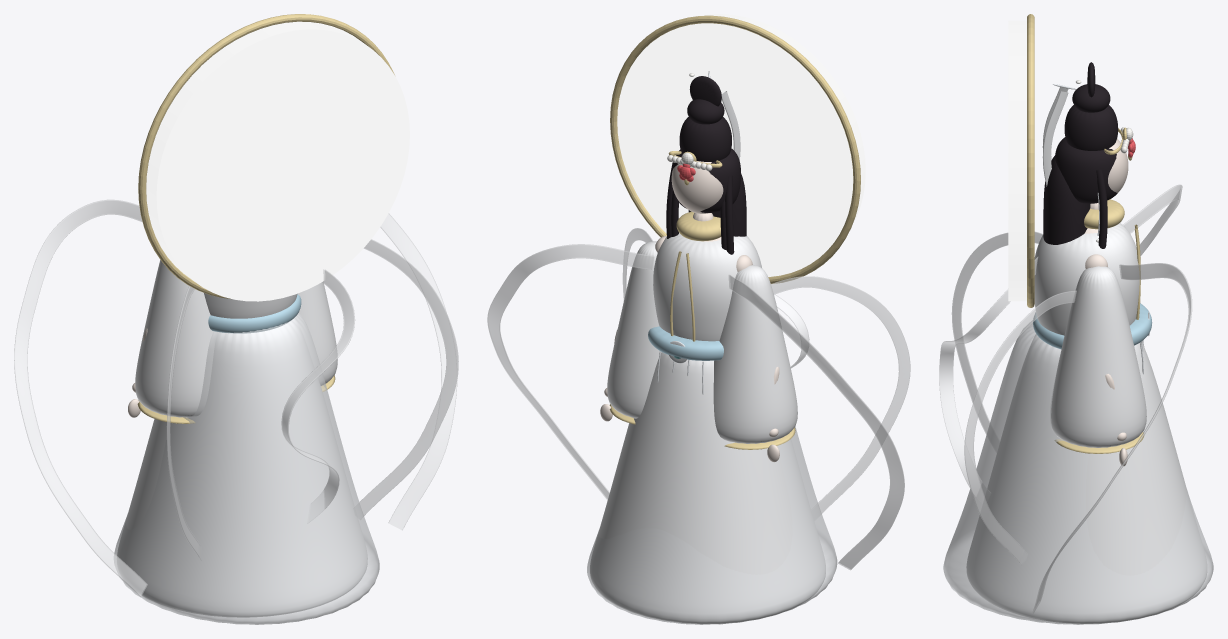
The model's file is xianxia-woman.glb.
3 views of the same model, side by side, from view 1: azimuth 30°, elevation 25°; view 2: azimuth 150°, elevation 25°; view 3: azimuth 270°, elevation 25° (orthographic). The views are drawn at different scales.
Parts seen in each view (by area): view 1: HaloDisc.001, SkirtSheer.001, SkirtOuter.001, Sleeve_L.001, PiboL1.001, PiboR1.001, PiboR2.001, HaloEdge.001, PiboBack.001, Sleeve_R.001, Bodice.001, PiboL2.001 (+1 smaller); view 2: SkirtOuter.001, HaloDisc.001, SkirtSheer.001, Sleeve_L.001, Bodice.001, Sleeve_R.001, HaloEdge.001, PiboL1.001, PiboR1.001, PiboL2.001, HairCrown.001, Head.001 (+8 smaller); view 3: SkirtOuter.001, SkirtSheer.001, Sleeve_R.001, Bodice.001, HaloDisc.001, PiboR2.001, PiboBack.001, HairMass.001, Scalp.001, PiboL2.001, HaloEdge.001, PiboR1.001 (+9 smaller).
Boxes of the visible parts, x1,y1,x2,y2 form: HaloDisc.001: (146,21,409,301); SkirtSheer.001: (114,313,379,624); SkirtOuter.001: (117,318,367,617); Sleeve_L.001: (135,260,217,417); PiboL1.001: (14,199,147,596); PiboR1.001: (380,213,457,530); PiboR2.001: (354,239,458,519); HaloEdge.001: (138,14,394,298); PiboBack.001: (281,269,355,523); Sleeve_R.001: (294,282,337,385); Bodice.001: (204,293,297,318); PiboL2.001: (166,286,201,560); SkirtOuter.001: (590,352,825,623); HaloDisc.001: (617,14,865,276); SkirtSheer.001: (587,426,837,624); Sleeve_L.001: (713,265,797,443); Bodice.001: (653,233,761,341); Sleeve_R.001: (607,241,661,418); HaloEdge.001: (610,15,860,283); PiboL1.001: (729,274,904,569); PiboR1.001: (487,244,654,500); PiboL2.001: (771,276,910,520); HairCrown.001: (679,117,731,161); Head.001: (671,161,723,213); SkirtOuter.001: (966,334,1207,623); SkirtSheer.001: (943,320,1213,624); Sleeve_R.001: (1050,266,1146,447); Bodice.001: (1034,223,1140,335); HaloDisc.001: (1008,20,1026,301); PiboR2.001: (964,290,1076,564); PiboBack.001: (939,257,1037,501); HairMass.001: (1043,156,1090,244); Scalp.001: (1055,137,1117,203); PiboL2.001: (951,231,1042,434); HaloEdge.001: (1027,14,1034,307); PiboR1.001: (1032,263,1192,613).
Size of the model in its own units: 1.68 by 2.17 by 0.977.
